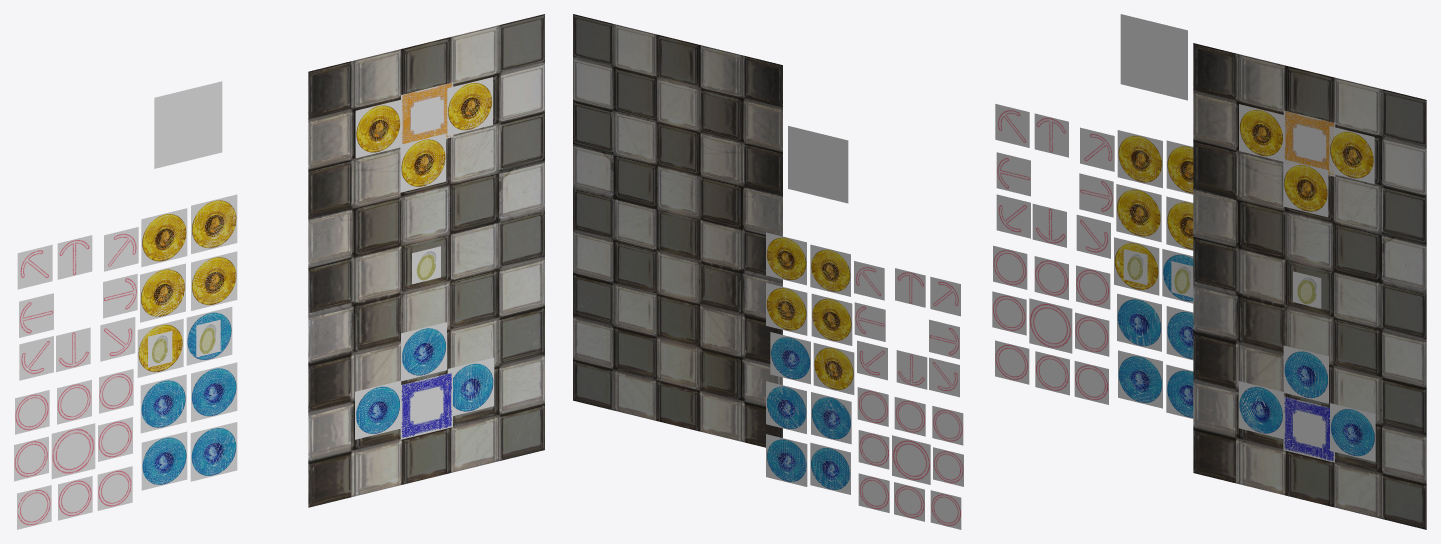
File: BoardMultiPlayer1Scene.dae
The picture shows the model from 3 angles, left to right: view 1: azimuth 30°, elevation 25°; view 2: azimuth 150°, elevation 25°; view 3: azimuth 330°, elevation 25°; orthographic projection. The views are drawn at different scales.
Visible parts, largest first — view 1: Board03, Transparent, BlueHome, RedHome, BlueBeanObject (×2), Blue07, RedBeanObject (×2), Red07, Blue06, Red06, Red01, Red04 (+26 smaller); view 2: Board03, Transparent, Blue07, Red06, RedBeanObject, Red05, Blue06, Red07, BlueBeanObject, Blue05, Blue04, Red04 (+17 smaller); view 3: Board03, Transparent, BlueHome, RedHome, RedBeanObject (×2), Blue03, Red05, Red03, Blue01, Red01, Blue02, Red04 (+26 smaller).
Part boxes in pixels (x1,y1,x2,y2): Board03: (308, 14, 544, 507); Transparent: (154, 81, 222, 168); BlueHome: (400, 372, 452, 439); RedHome: (401, 82, 453, 144); BlueBeanObject (×2): (186, 307, 232, 365); Blue07: (190, 422, 237, 481); RedBeanObject (×2): (137, 319, 183, 377); Red07: (191, 194, 237, 254); Blue06: (191, 362, 237, 421); Red06: (191, 251, 237, 310); Red01: (400, 133, 446, 192); Red04: (141, 208, 187, 267); Board03: (573, 14, 782, 447); Transparent: (788, 126, 848, 203); Blue07: (766, 434, 807, 486); Red06: (766, 283, 807, 335); RedBeanObject: (813, 343, 854, 394); Red05: (811, 293, 852, 345); Blue06: (766, 381, 806, 433); Red07: (766, 232, 806, 285); BlueBeanObject: (770, 332, 810, 384); Blue05: (811, 392, 851, 444); Blue04: (810, 442, 850, 494); Red04: (810, 244, 850, 296); Board03: (1193, 43, 1426, 529); Transparent: (1120, 14, 1187, 100); BlueHome: (1283, 396, 1334, 462); RedHome: (1283, 110, 1335, 176); RedBeanObject (×2): (1114, 237, 1159, 295); Blue03: (1330, 403, 1375, 461); Red05: (1116, 184, 1161, 242); Red03: (1329, 126, 1374, 184); Blue01: (1283, 345, 1328, 403); Red01: (1283, 159, 1328, 217); Blue02: (1238, 381, 1283, 438); Red04: (1117, 130, 1162, 188).
Size of the model in its own units: 73.88 by 12.27 by 63.38.
11 materials, 11 textured.
